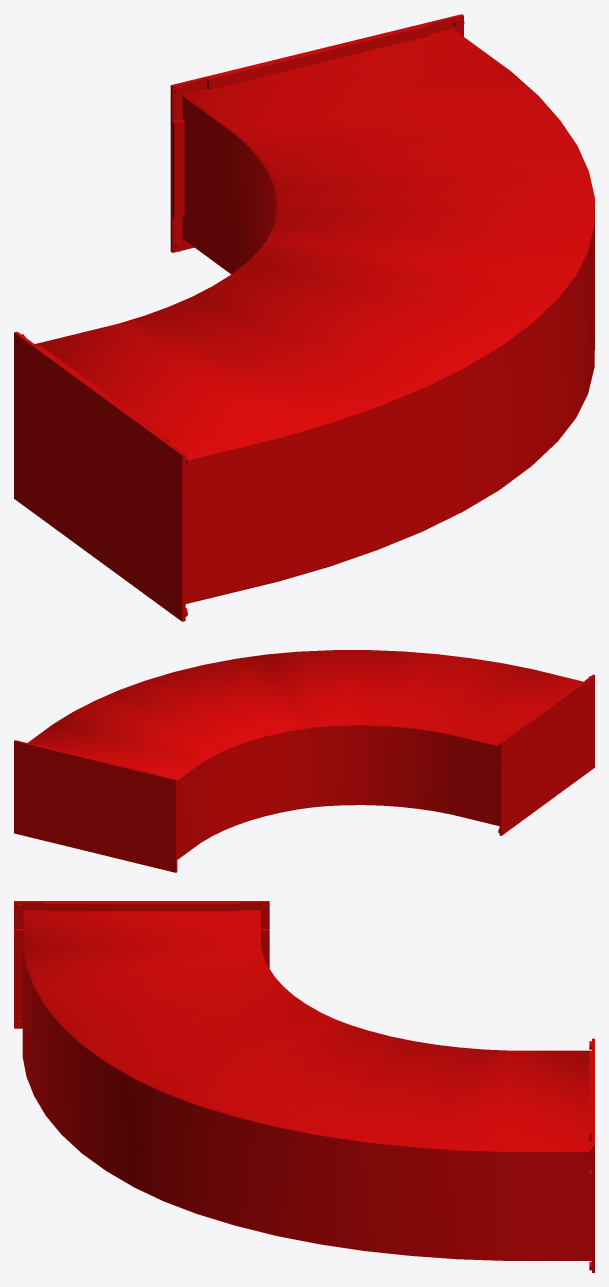
3 views of the same model, one above another, from view 1: azimuth 30°, elevation 25°; view 2: azimuth 150°, elevation 25°; view 3: azimuth 270°, elevation 25° (orthographic). The views are drawn at different scales.
Parts seen in each view (by area): view 1: Mesh; view 2: Mesh; view 3: Mesh.
Part boxes in pixels (x1,y1,x2,y2): Mesh: (14,14,594,621); Mesh: (14,650,594,872); Mesh: (14,901,594,1272).
Size of the model in its own units: 1 by 0.24 by 1.
